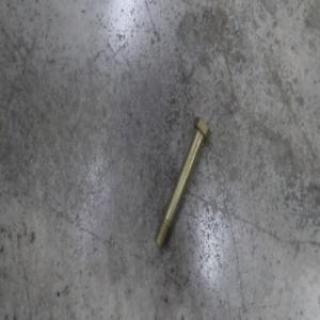Bolttrack_idkeyframe: (152, 114, 210, 250)
